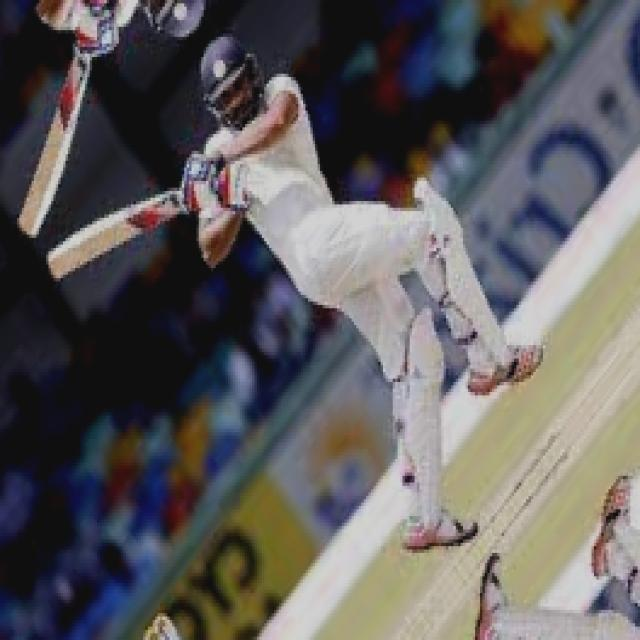toe: (46, 246, 68, 288)
